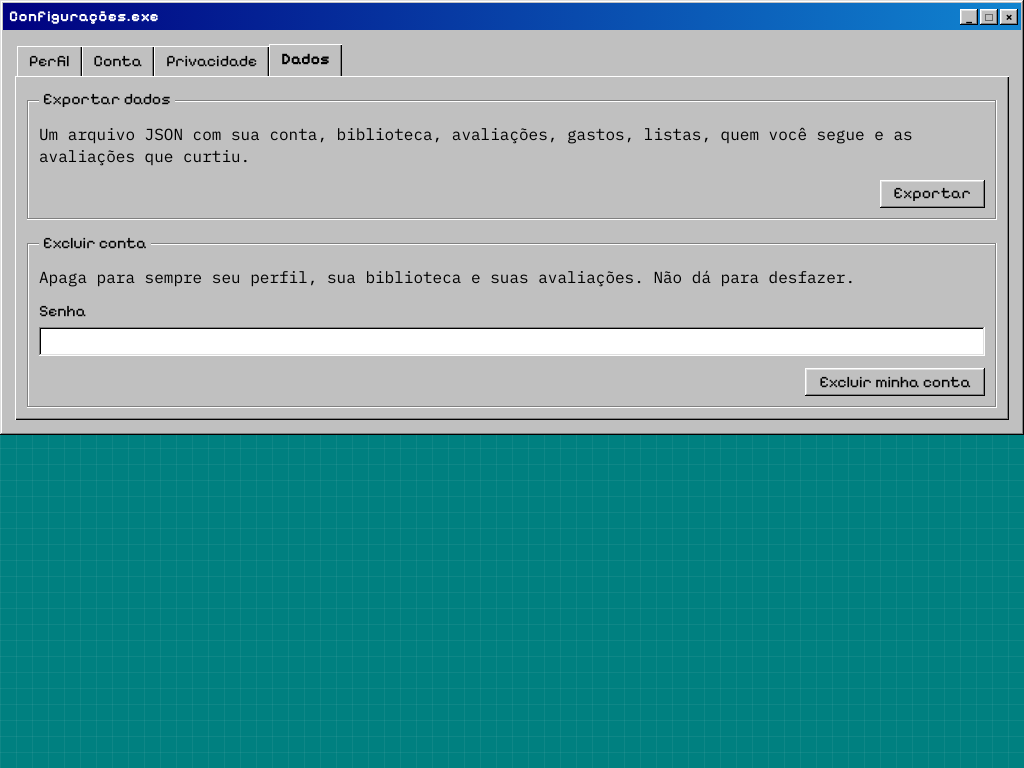
Test: SettingsView › Dados mostra a senha incorreta e mantém a sessão
Type "errada" into the password field labelled "Senha" at (512, 341), box [39,327,985,356]
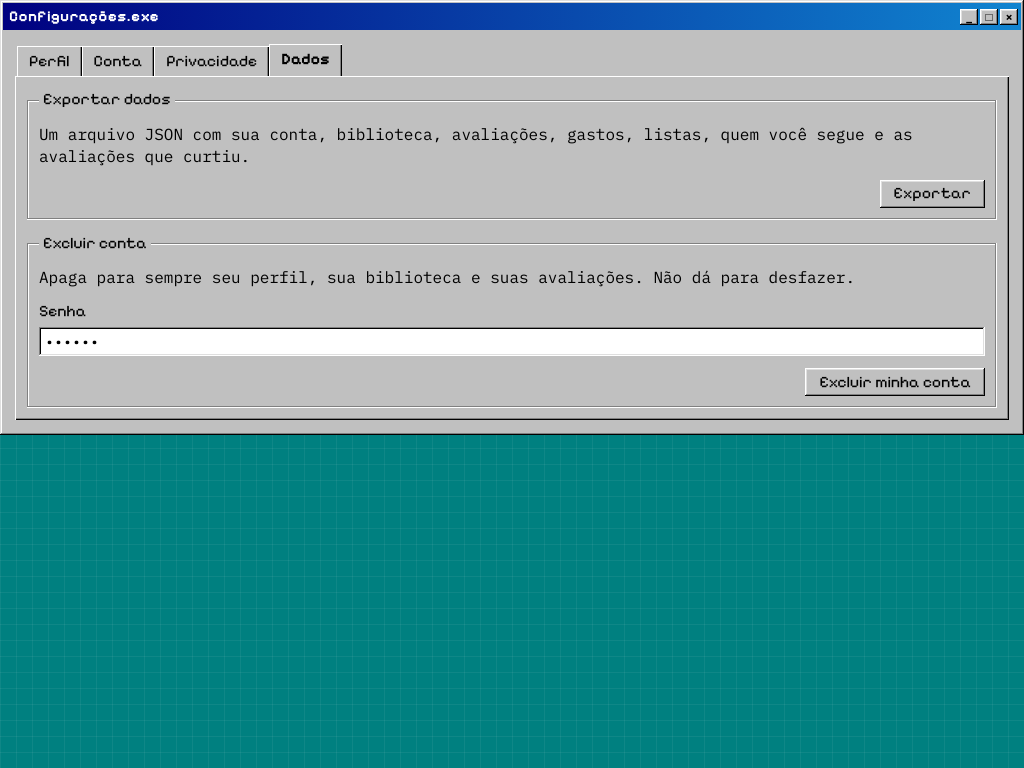
Submit the form, box [39,300,985,396]
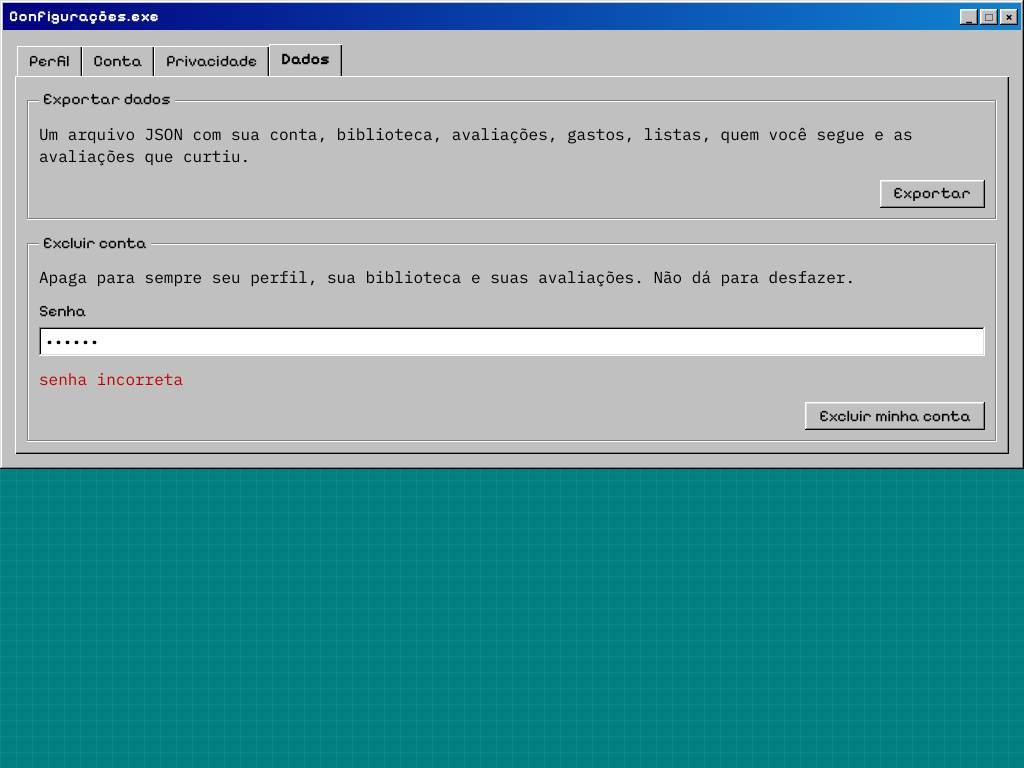
Expected: the message "senha incorreta" is shown, [39,369,183,389]
